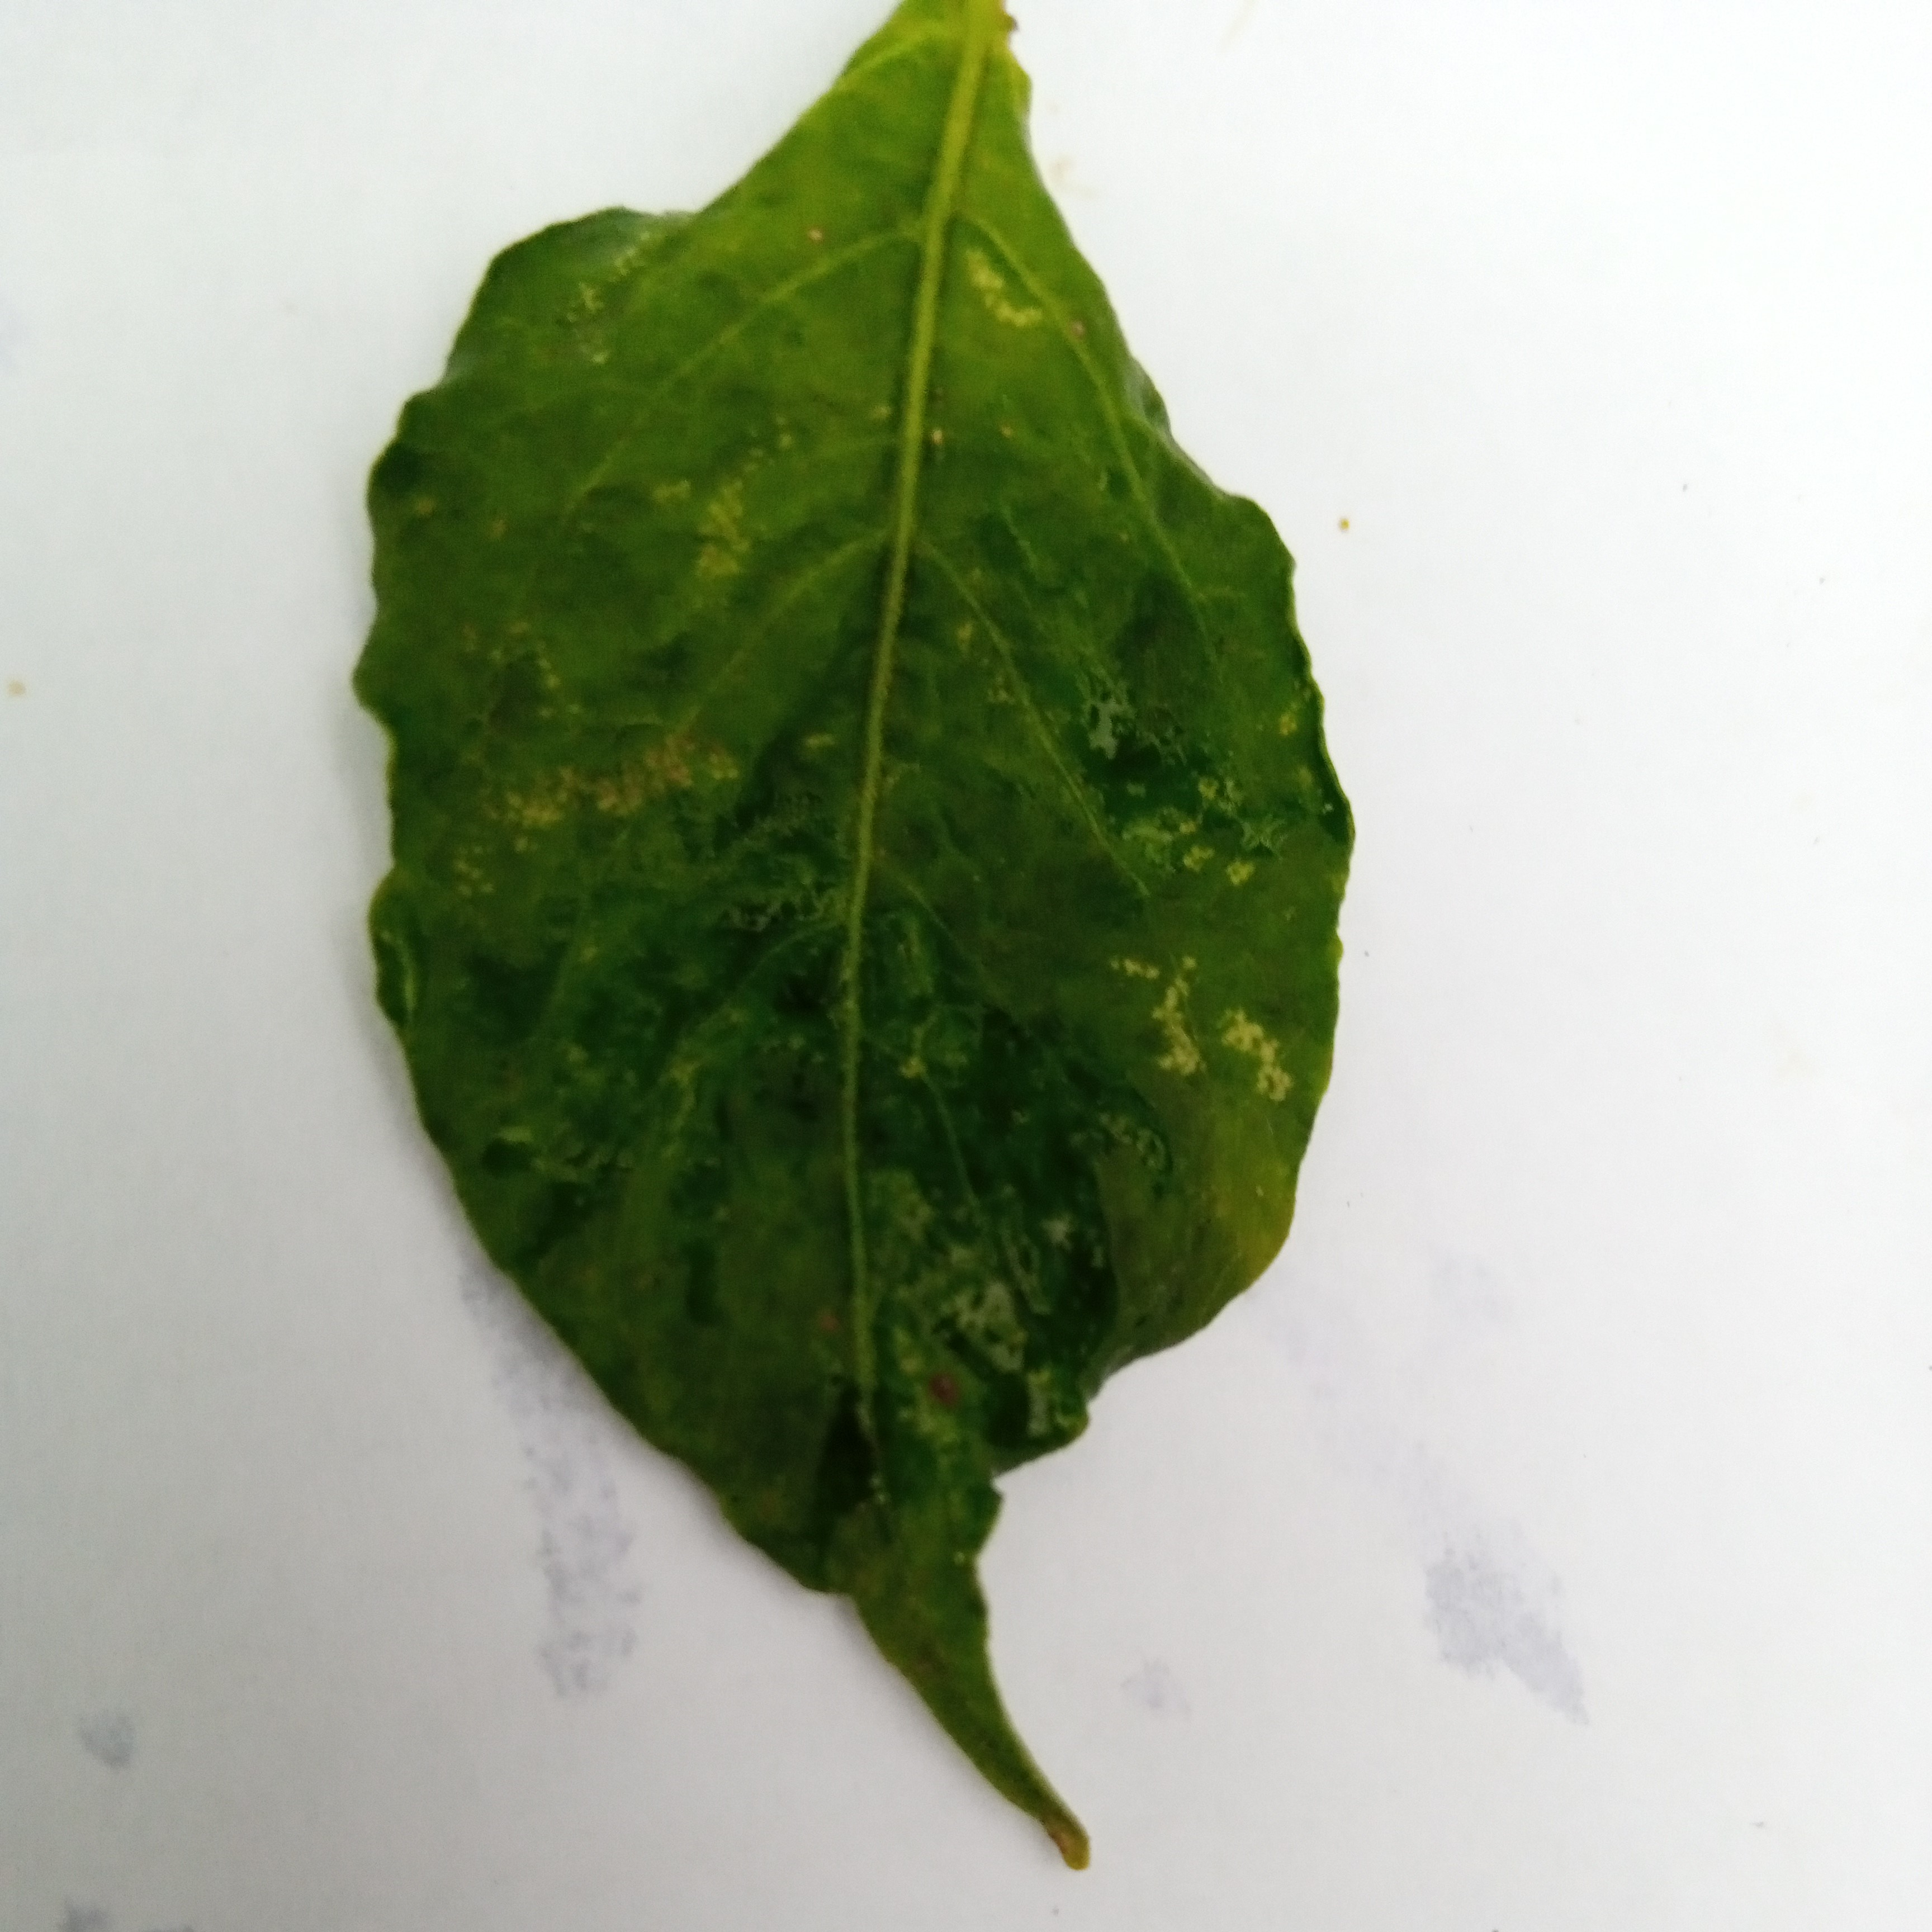Leaf: (230, 18, 1442, 1932)
